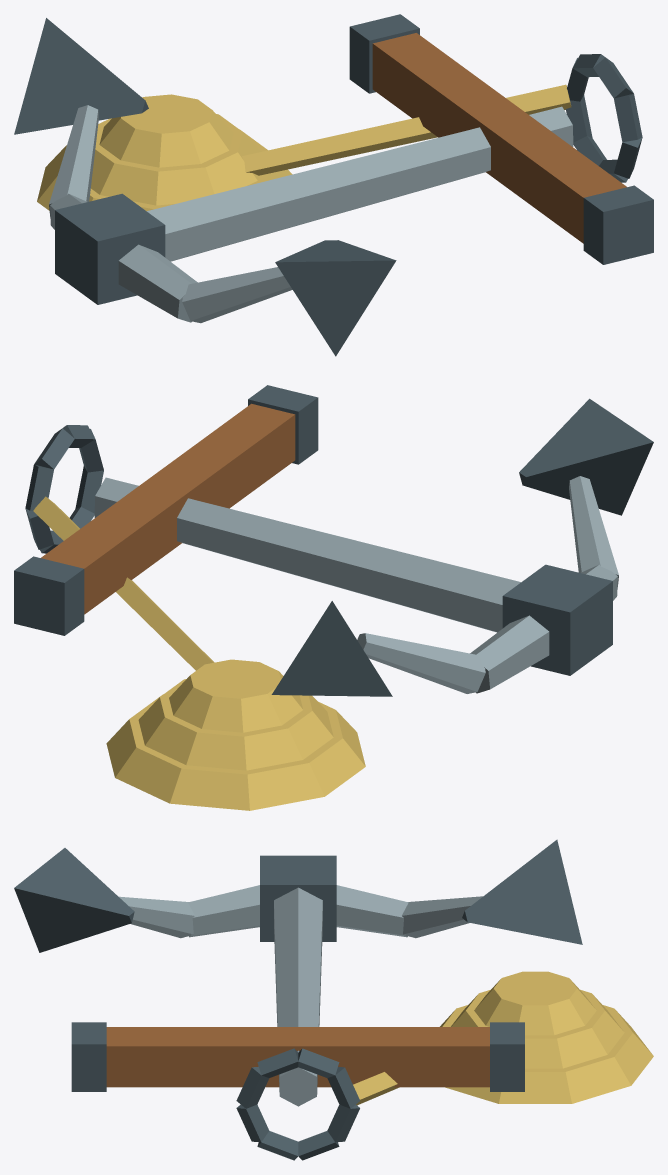
File: ship_anchor.glb
The picture shows the model from 3 angles, top to bottom: view 1: azimuth 30°, elevation 25°; view 2: azimuth 150°, elevation 25°; view 3: azimuth 270°, elevation 25°; orthographic projection. The views are drawn at different scales.
Parts seen in each view (by area): view 1: Anchor_Shank, Anchor_Stock, Anchor_Crown, Anchor_Fluke_2, Anchor_Fluke_1, Anchor_Cable_3, Anchor_Cable_2, Anchor_Cable_Tail, Anchor_Stock_Cap_1, Anchor_Arm_Tip_1, Anchor_Arm_1, Anchor_Arm_Tip_2 (+9 smaller); view 2: Anchor_Shank, Anchor_Stock, Anchor_Cable_1, Anchor_Fluke_1, Anchor_Cable_2, Anchor_Crown, Anchor_Cable_3, Anchor_Fluke_2, Anchor_Stock_Cap_2, Anchor_Arm_Tip_2, Anchor_Arm_2, Anchor_Cable_Tail (+6 smaller); view 3: Anchor_Stock, Anchor_Shank, Anchor_Fluke_1, Anchor_Fluke_2, Anchor_Cable_1, Anchor_Cable_3, Anchor_Crown, Anchor_Cable_2, Anchor_Arm_2, Anchor_Arm_1, Anchor_Stock_Cap_1, Anchor_Stock_Cap_2 (+11 smaller).
Boxes of the visible parts, x1,y1,x2,y2 form: Anchor_Shank: [147, 106, 573, 261]; Anchor_Stock: [372, 33, 626, 243]; Anchor_Crown: [55, 193, 165, 304]; Anchor_Fluke_2: [14, 18, 148, 134]; Anchor_Fluke_1: [275, 240, 396, 356]; Anchor_Cable_3: [99, 94, 233, 167]; Anchor_Cable_2: [91, 114, 261, 205]; Anchor_Cable_Tail: [242, 84, 571, 175]; Anchor_Stock_Cap_1: [583, 185, 653, 264]; Anchor_Arm_Tip_1: [182, 267, 292, 323]; Anchor_Arm_1: [118, 244, 197, 322]; Anchor_Arm_Tip_2: [49, 105, 98, 218]; Anchor_Shank: [94, 477, 520, 632]; Anchor_Stock: [41, 403, 295, 614]; Anchor_Cable_1: [106, 694, 365, 810]; Anchor_Fluke_1: [519, 398, 653, 515]; Anchor_Cable_2: [138, 679, 333, 770]; Anchor_Crown: [502, 564, 612, 675]; Anchor_Cable_3: [169, 659, 303, 732]; Anchor_Fluke_2: [271, 601, 392, 696]; Anchor_Stock_Cap_2: [14, 556, 84, 635]; Anchor_Arm_Tip_2: [357, 633, 485, 693]; Anchor_Arm_2: [470, 615, 549, 693]; Anchor_Cable_Tail: [33, 496, 214, 670]; Anchor_Stock: [106, 1027, 489, 1087]; Anchor_Shank: [274, 887, 322, 1106]; Anchor_Fluke_1: [14, 848, 134, 952]; Anchor_Fluke_2: [462, 839, 582, 944]; Anchor_Cable_1: [440, 1005, 653, 1103]; Anchor_Cable_3: [474, 971, 596, 1035]; Anchor_Crown: [260, 855, 336, 941]; Anchor_Cable_2: [451, 989, 624, 1068]; Anchor_Arm_2: [336, 885, 408, 937]; Anchor_Arm_1: [188, 885, 259, 937]; Anchor_Stock_Cap_1: [71, 1022, 106, 1091]; Anchor_Stock_Cap_2: [490, 1022, 524, 1091].
Bounding box in the file's own units: 1.59 × 0.5375 × 1.84.
